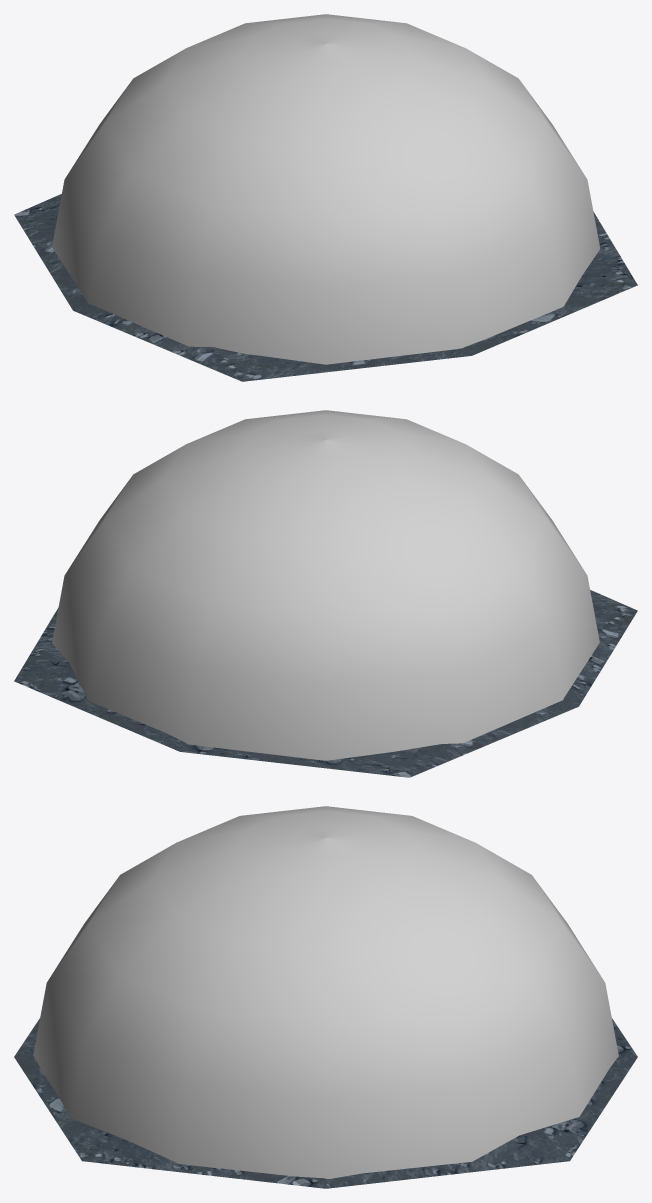
Rendered from Environment.fbx.
3 renders of one model, top to bottom at view 1: azimuth 30°, elevation 25°; view 2: azimuth 150°, elevation 25°; view 3: azimuth 270°, elevation 25°, orthographic. The views are drawn at different scales.
Parts seen in each view (by area): view 1: Dome; view 2: Dome; view 3: Dome.
Part boxes in pixels (x1=…): Dome: x1=14, y1=14, x2=637, y2=381; Dome: x1=14, y1=410, x2=637, y2=777; Dome: x1=14, y1=806, x2=637, y2=1188.
Bounding box in the file's own units: 357 × 140 × 357.
